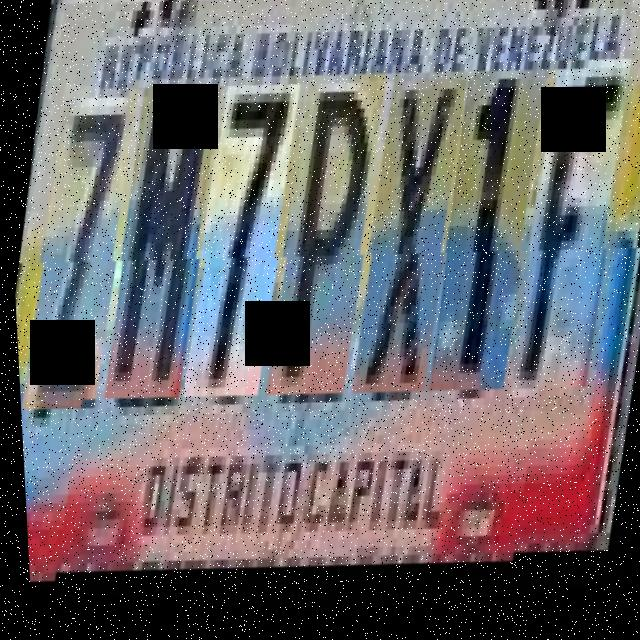1: (411, 77, 564, 424)
7: (169, 82, 317, 418)
F: (495, 79, 640, 432)
M: (88, 79, 240, 418)
P: (250, 74, 402, 421)
X: (336, 76, 483, 421)
Z: (9, 79, 154, 416)
